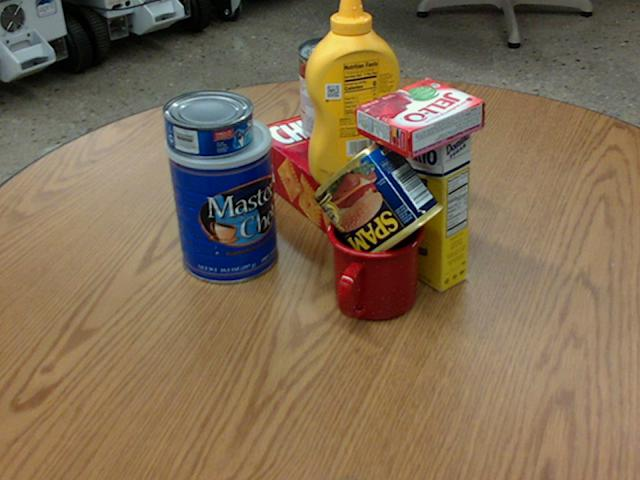cracker_box: (250, 96, 467, 252)
gelatin_box: (356, 78, 484, 158)
large_marker: (228, 111, 251, 213)
master_chef_can: (164, 112, 279, 282)
mug: (324, 205, 424, 322)
mustard_bottle: (305, 0, 400, 185)
potted_meat_can: (312, 137, 444, 267)
sugar_box: (376, 94, 471, 294)
tomato_soup_can: (296, 37, 357, 142)
tuna_fish_can: (161, 88, 252, 157)
